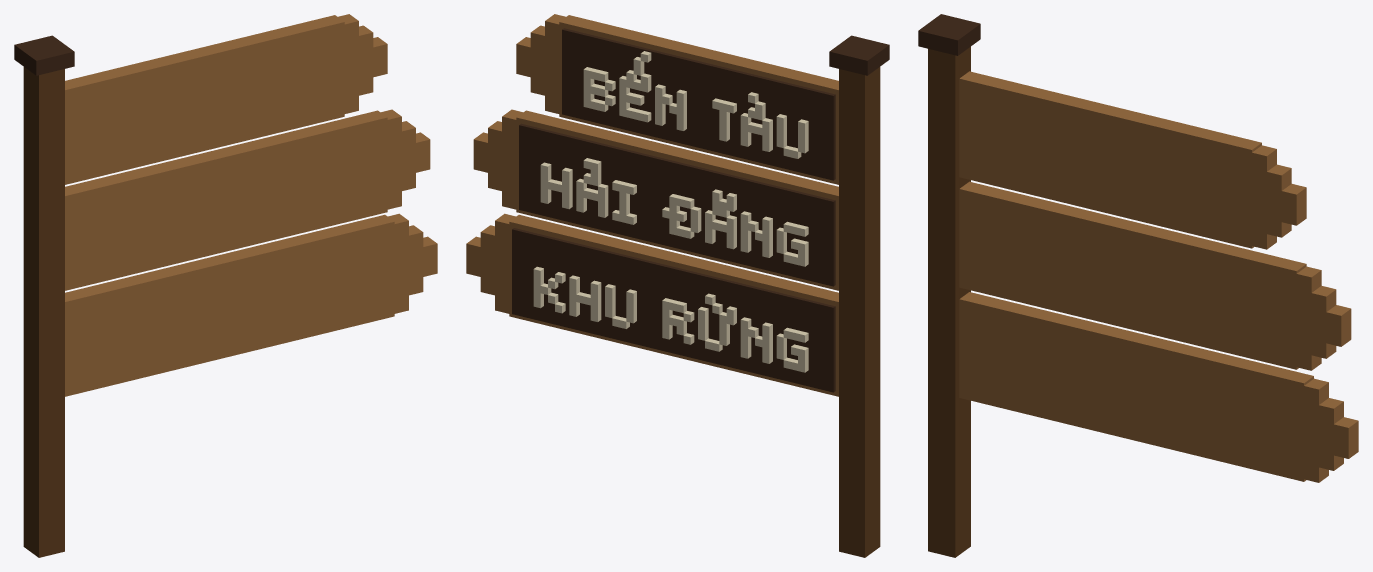
File: th-signpost-east.glb
3 views of the same model, side by side, from view 1: azimuth 30°, elevation 25°; view 2: azimuth 150°, elevation 25°; view 3: azimuth 330°, elevation 25° (orthographic). The views are drawn at different scales.
Visible parts, largest first — view 1: box-prop; view 2: box-prop; view 3: box-prop.
Boxes of the visible parts, box(x1,y1,x2,y2) form: box-prop: box(14, 14, 437, 557); box-prop: box(466, 14, 889, 557); box-prop: box(918, 14, 1358, 557).
Bounding box in the file's own units: 3.42 × 4.02 × 0.32.
